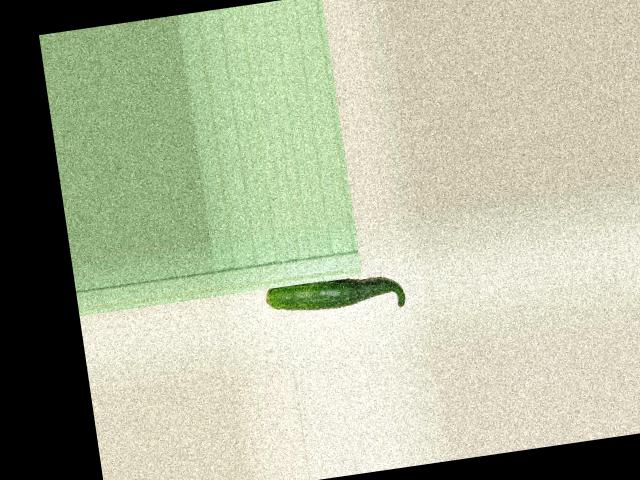cucumber: (265, 269, 406, 325)
